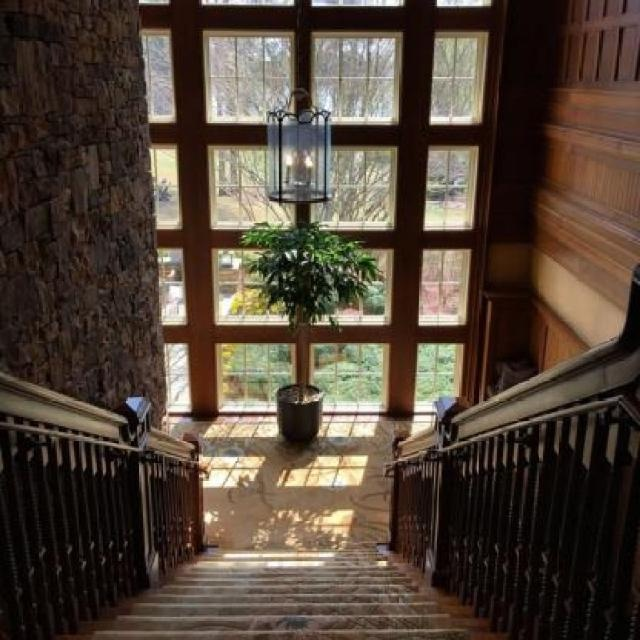stair: (45, 543, 512, 640)
